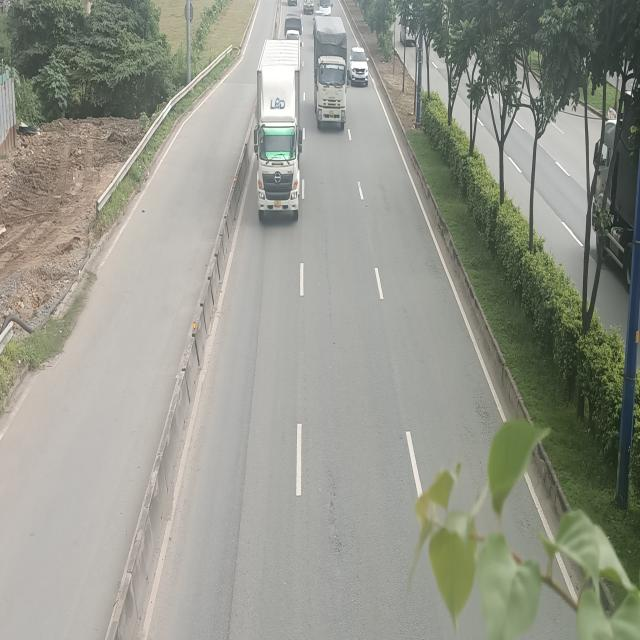car: (348, 47, 369, 87)
truck: (256, 41, 305, 222), (315, 12, 349, 129)
